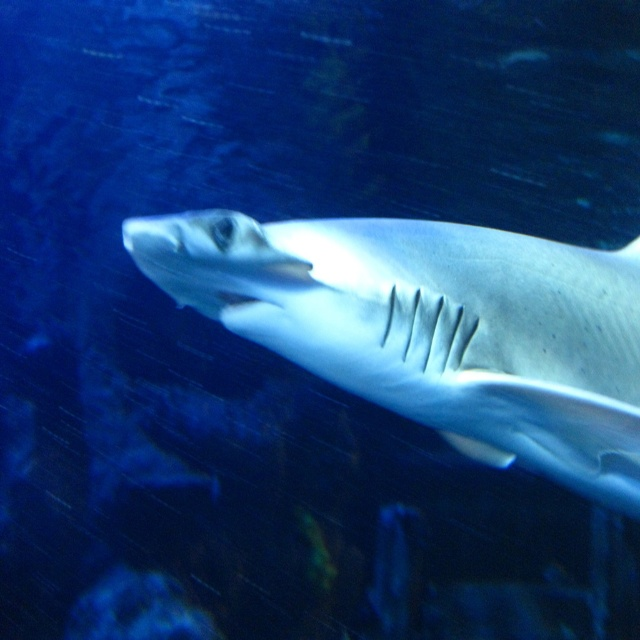Fish: (122, 209, 640, 523)
